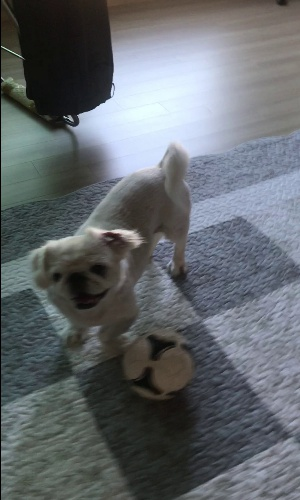ddubi: (28, 137, 196, 348)
